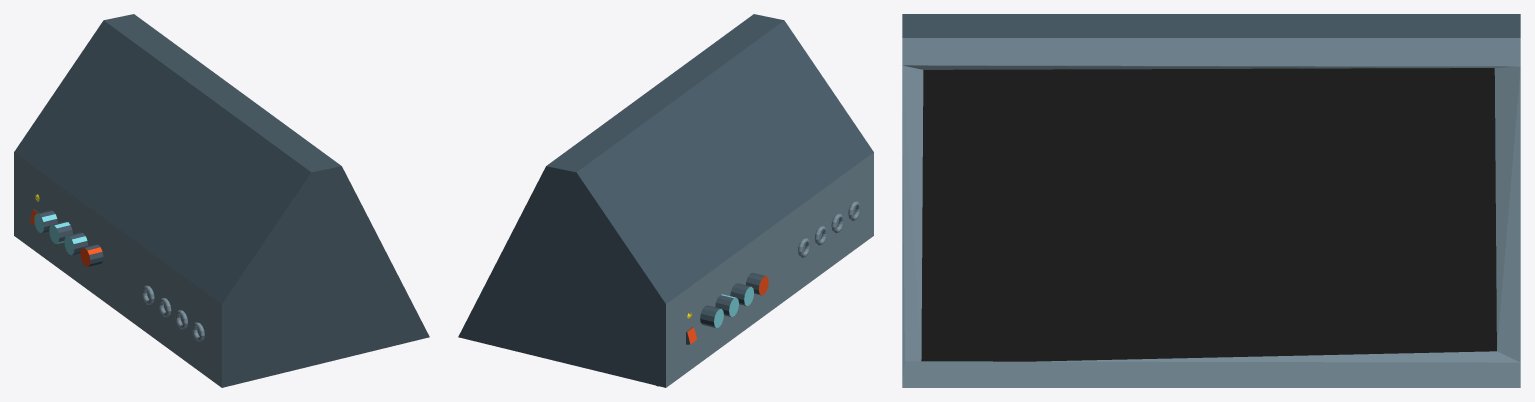
Rendered from FloorMonitor.glb.
3 views of the same model, side by side, from view 1: azimuth 30°, elevation 25°; view 2: azimuth 150°, elevation 25°; view 3: azimuth 270°, elevation 25° (orthographic). The views are drawn at different scales.
Visible parts, largest first — view 1: group355800739, group1990572017, group268863367, group1484190439, group1682937251; view 2: group355800739, group1484190439, group1682937251, group268863367, group1990572017; view 3: group355800739.
Boxes of the visible parts, <box> form: group355800739: <box>14,14,429,387</box>; group1990572017: <box>80,244,103,266</box>; group268863367: <box>64,232,88,255</box>; group1484190439: <box>34,210,57,232</box>; group1682937251: <box>49,221,72,244</box>; group355800739: <box>458,14,873,387</box>; group1484190439: <box>700,305,723,327</box>; group1682937251: <box>715,294,738,316</box>; group268863367: <box>730,283,753,305</box>; group1990572017: <box>745,272,768,295</box>; group355800739: <box>902,14,1520,387</box>.
Size of the model in its own units: 0.3821 by 0.3255 by 0.62.
